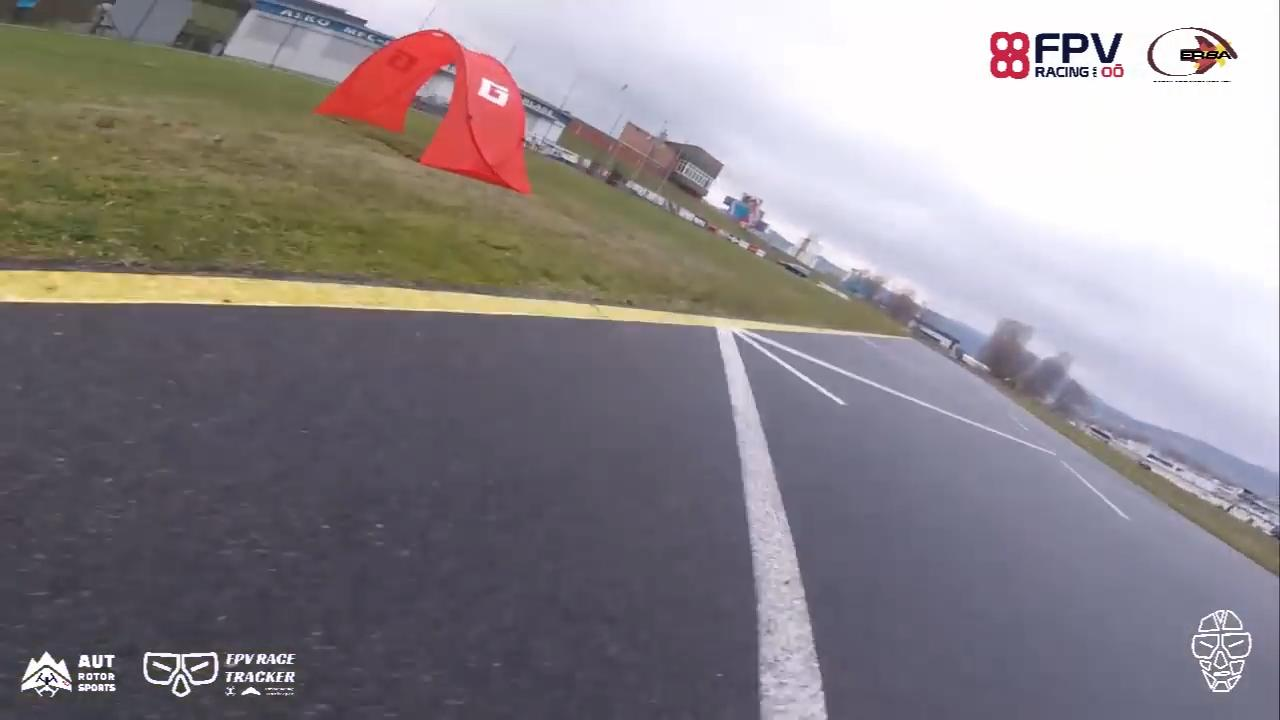gate: (316, 29, 534, 198)
